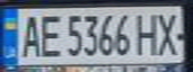3: (78, 11, 100, 57)
5: (63, 11, 84, 57)
6: (112, 10, 136, 56), (97, 10, 118, 57)
A: (15, 11, 45, 58)
E: (36, 10, 63, 58)
H: (133, 9, 163, 56)
X: (151, 8, 184, 56)
